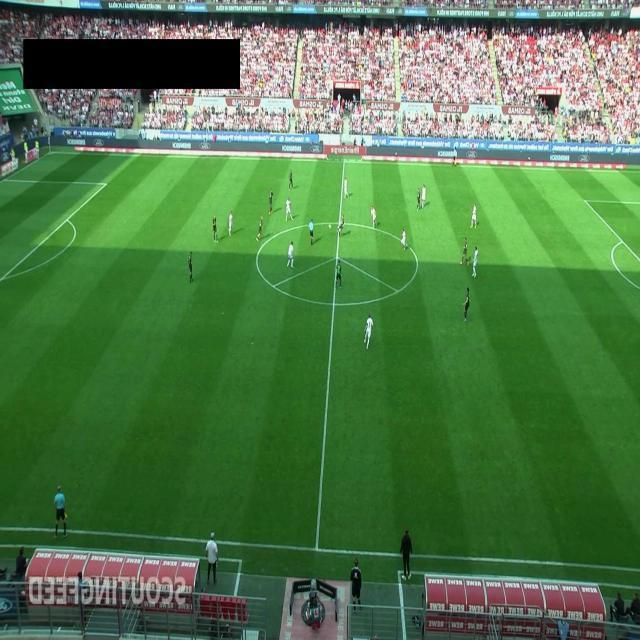Ball: (328, 222, 332, 232)
Corner: (46, 122, 52, 154)
Referee: (52, 484, 68, 538), (308, 217, 314, 245), (452, 142, 458, 168)
TEAM 1: (364, 312, 374, 350), (284, 196, 294, 222), (286, 240, 294, 268), (472, 246, 478, 278), (470, 204, 478, 228), (228, 210, 234, 237), (420, 184, 426, 209), (371, 205, 377, 228), (344, 176, 350, 198), (401, 228, 407, 250)
TEAM 2: (459, 237, 468, 266), (463, 286, 470, 322), (335, 214, 345, 238), (335, 259, 342, 289), (256, 216, 264, 240), (188, 251, 194, 283), (212, 214, 218, 243), (268, 189, 274, 215), (288, 170, 294, 190), (416, 186, 420, 210)
